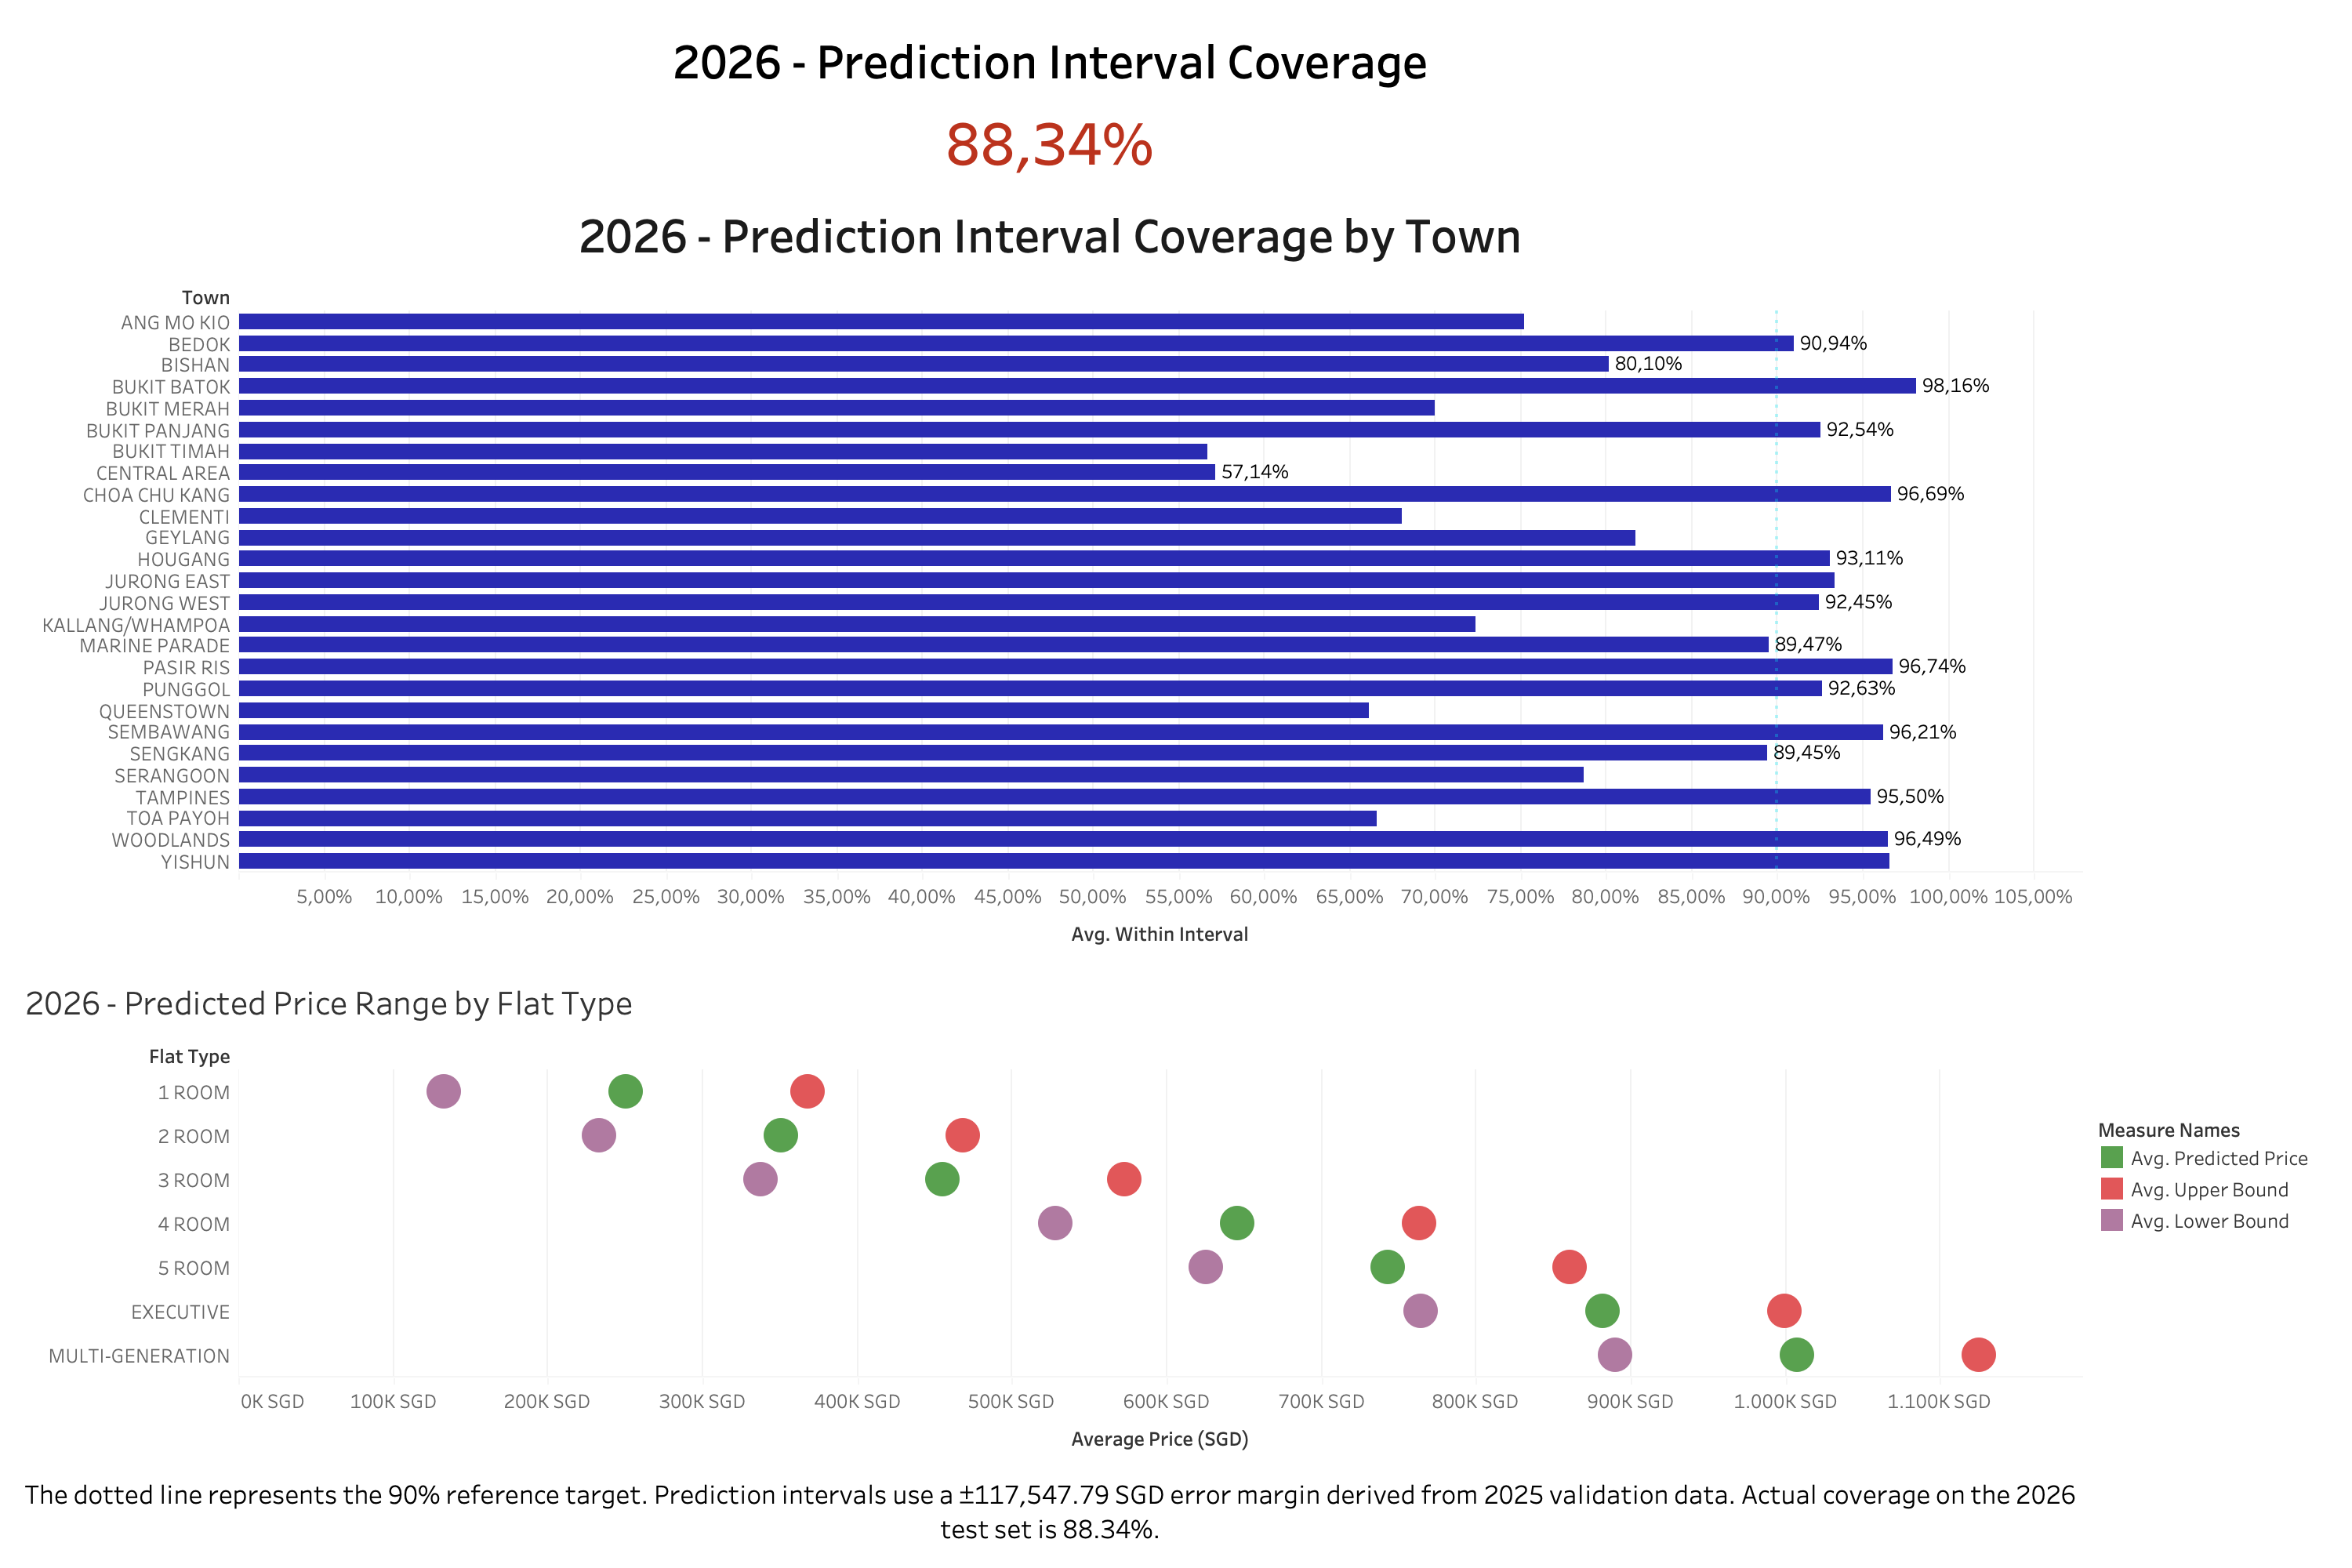

The dashboard page shown, as its layout file describes it:
{"tool":"tableau","page":{"name":"2026 - Prediction Interval Analysis","canvas":[1500,1000],"ordinal":2},"visuals":[{"type":"worksheet","title":"2026 - KPI Interval Coverage","mark":"Automatic","box":[8,8,1324,111]},{"type":"worksheet","title":"2026 - Prediction Interval Coverage by Town","mark":"Automatic","rows":["town"],"cols":["within_interval"],"box":[8,119,1324,496.4]},{"type":"worksheet","title":"2026 - Predicted Price Range by Flat Type","mark":"Circle","rows":["flat_type"],"box":[8,615.5,1324,321.6]},{"type":"legend","title":"2026 - Predicted Price Range by Flat Type","param":"[federated.0y7e02d0z582eg15i43gy1mlgi4w].[:Measure Names]","box":[1337,710,152,109]},{"type":"text","box":[8,937,1324,55]}]}

Visuals, with their boxes in screenshot pixels (x1, y1, x2, y2), scaled from the page's 1500x1000 canvas onto the 2352x1568 screenshot:
"2026 - KPI Interval Coverage" worksheet: (13, 13, 2089, 187)
"2026 - Prediction Interval Coverage by Town" worksheet: (13, 187, 2089, 965)
"2026 - Predicted Price Range by Flat Type" worksheet (Circle marks): (13, 965, 2089, 1469)
"2026 - Predicted Price Range by Flat Type" legend: (2096, 1113, 2335, 1284)
text: (13, 1469, 2089, 1555)
